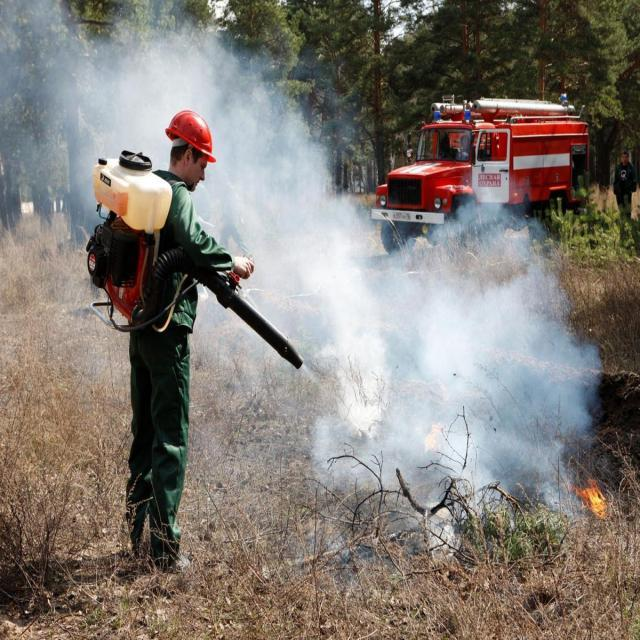Fire: (574, 476, 607, 519)
Smoke: (0, 0, 606, 548)
